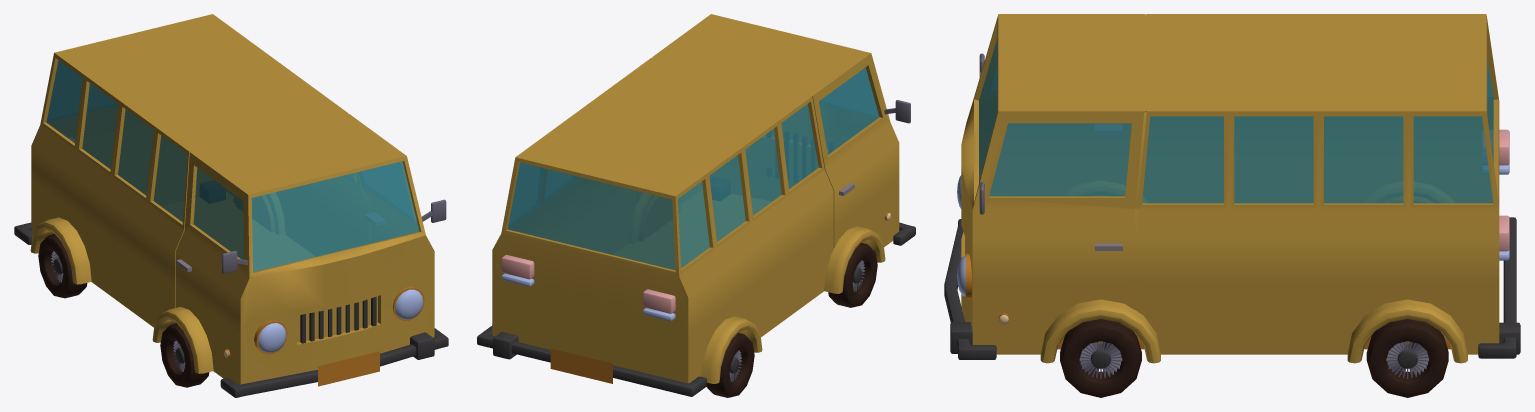
File: bus.fbx
The picture shows the model from 3 angles, left to right: view 1: azimuth 30°, elevation 25°; view 2: azimuth 150°, elevation 25°; view 3: azimuth 270°, elevation 25°; orthographic projection. The views are drawn at different scales.
Parts seen in each view (by area): view 1: Cube_1; view 2: Cube_1; view 3: Cube_1.
Part boxes in pixels (<box>): Cube_1: <box>14,14,448,397</box>; Cube_1: <box>477,14,915,397</box>; Cube_1: <box>944,14,1520,397</box>.
Bounding box in the file's own units: 255 × 232 × 450.
